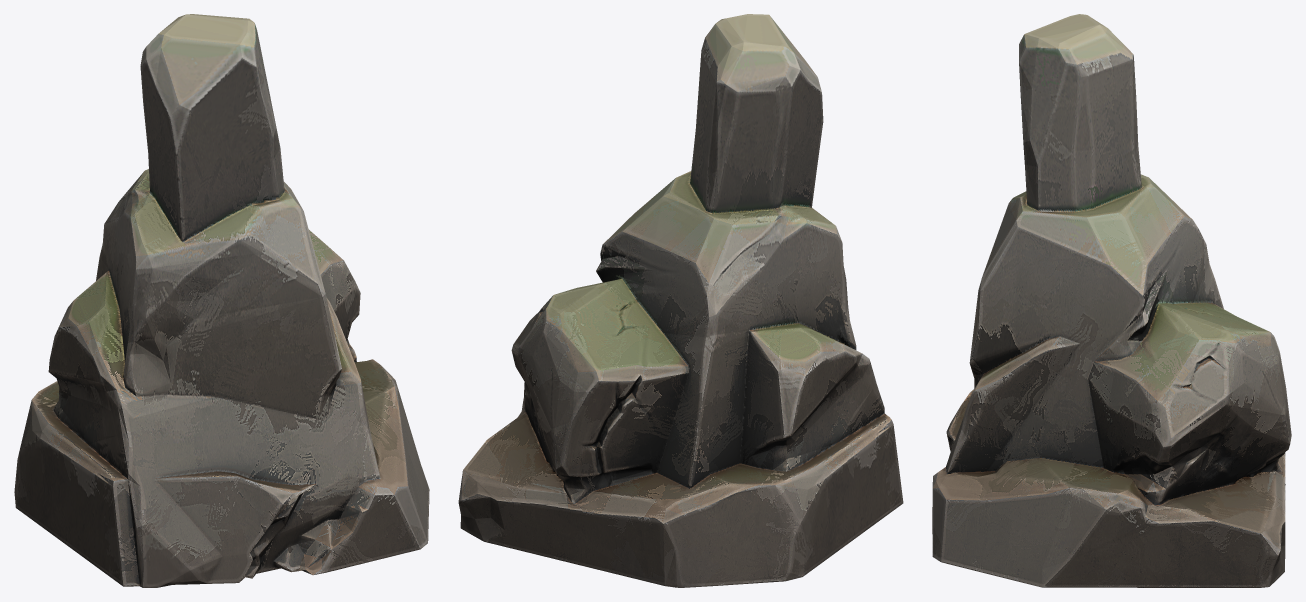
Rendered from first_rock.gltf.
3 views of the same model, side by side, from view 1: azimuth 30°, elevation 25°; view 2: azimuth 150°, elevation 25°; view 3: azimuth 270°, elevation 25° (orthographic). The views are drawn at different scales.
Visible parts, largest first — view 1: FirstRock; view 2: FirstRock; view 3: FirstRock.
Part boxes in pixels (x1,y1,x2,y2): FirstRock: (14, 14, 429, 587); FirstRock: (458, 14, 903, 587); FirstRock: (932, 14, 1291, 587).
Bounding box in the file's own units: 2 × 2.92 × 2.04.
1 material, 1 textured.
